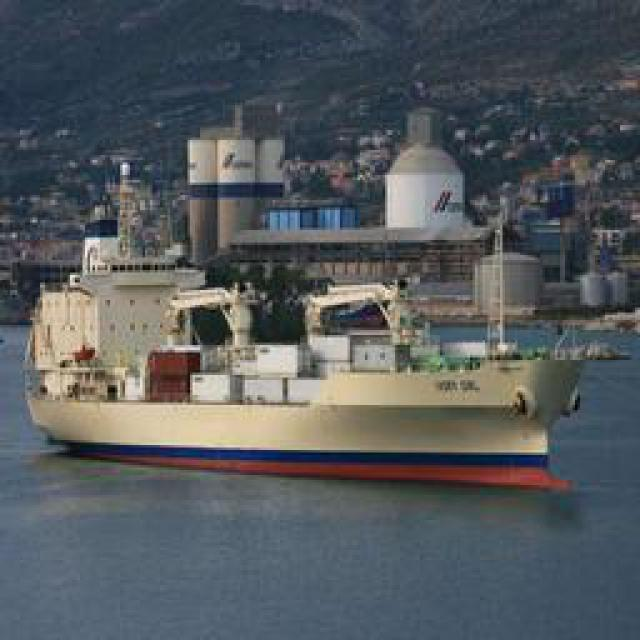Ship: (12, 262, 600, 485)
